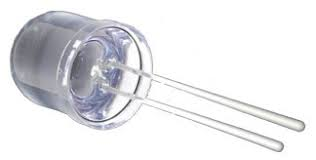LED: (9, 9, 308, 154)
